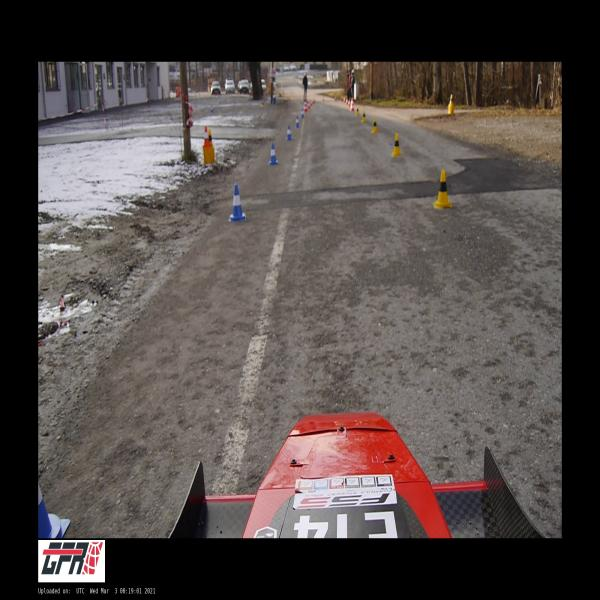blue_cone: (38, 482, 70, 538), (229, 184, 246, 221), (269, 144, 278, 164), (286, 125, 292, 140), (296, 116, 300, 127), (301, 108, 304, 118)
large_orange_cone: (304, 99, 308, 112), (350, 98, 354, 110)
orange_cone: (204, 126, 211, 146)
yellow_cone: (434, 170, 452, 208), (392, 134, 402, 155), (372, 118, 378, 132), (362, 110, 366, 121), (449, 94, 453, 104), (356, 106, 359, 114)
